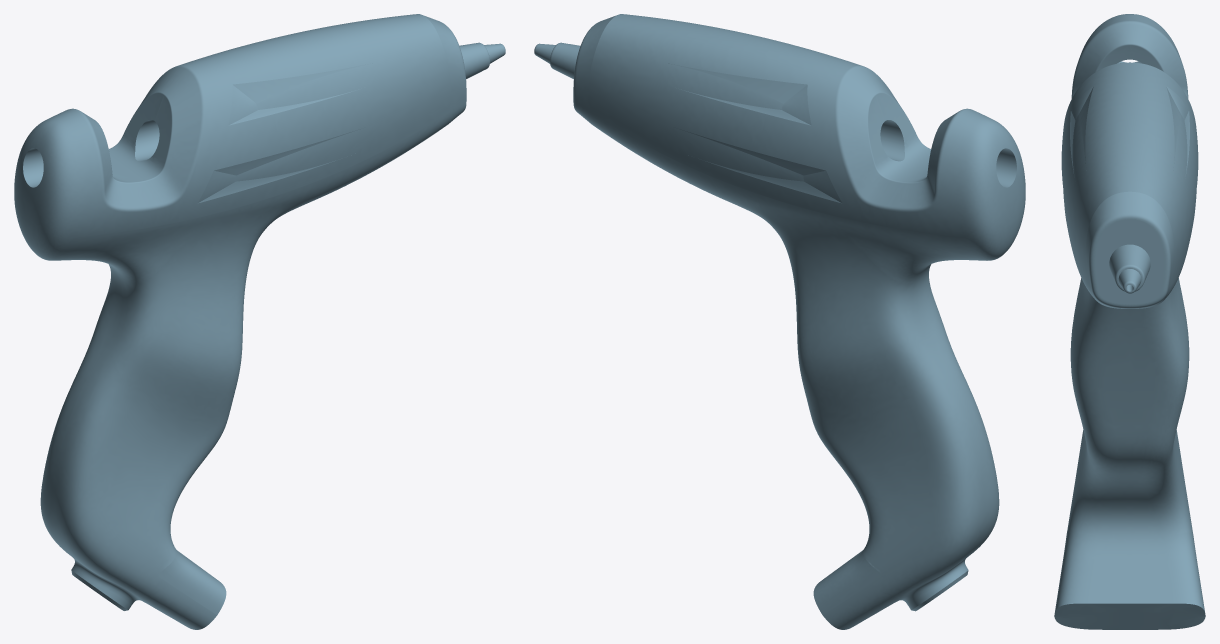
The model's file is lijmpistool.glb.
3 renders of one model, left to right at view 1: azimuth 30°, elevation 25°; view 2: azimuth 150°, elevation 25°; view 3: azimuth 270°, elevation 25°, orthographic. The views are drawn at different scales.
Visible parts, largest first — view 1: Lijmpistool6; view 2: Lijmpistool6; view 3: Lijmpistool6.
Part boxes in pixels (<box>): Lijmpistool6: <box>14,14,505,629</box>; Lijmpistool6: <box>534,14,1025,629</box>; Lijmpistool6: <box>1054,14,1205,629</box>.
Size of the model in its own units: 0.2427 by 0.2644 by 0.0621.
